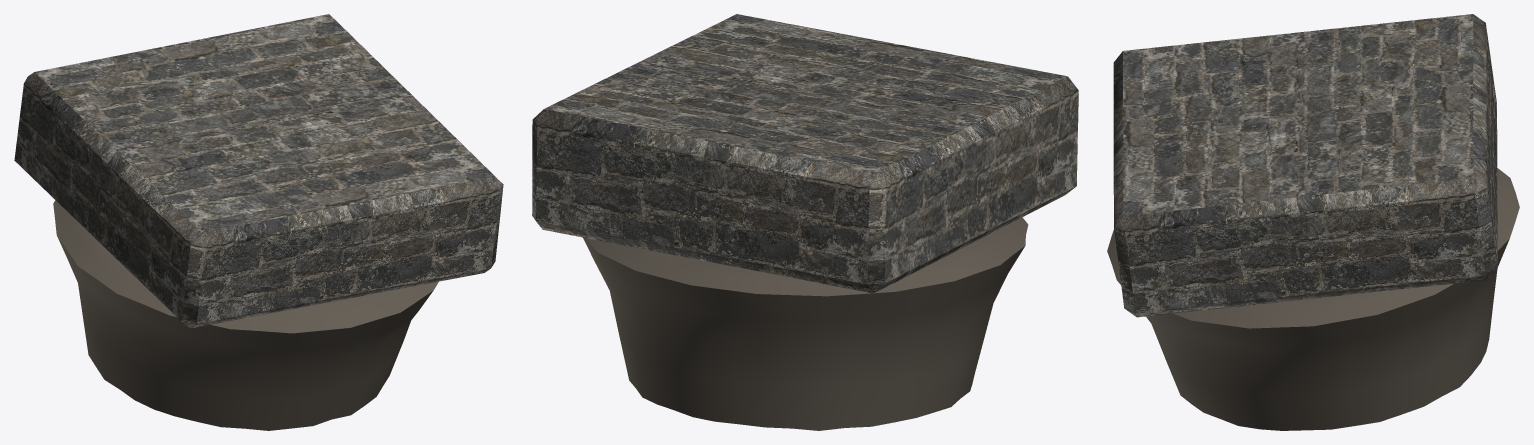
The model's file is stone-capital-v01.glb.
3 views of the same model, side by side, from view 1: azimuth 30°, elevation 25°; view 2: azimuth 150°, elevation 25°; view 3: azimuth 270°, elevation 25° (orthographic). The views are drawn at different scales.
Visible parts, largest first — view 1: stone-capital; view 2: stone-capital; view 3: stone-capital.
Boxes of the visible parts, x1,y1,x2,y2 form: stone-capital: (14, 14, 503, 430); stone-capital: (532, 14, 1078, 430); stone-capital: (1107, 14, 1519, 430).
Bounding box in the file's own units: 1.44 × 1.12 × 1.43.
1 material, 1 textured.
